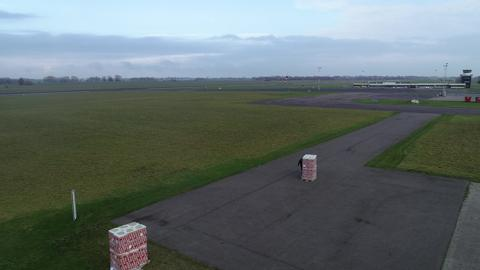RockwoolPallet: (301, 153, 317, 180)
